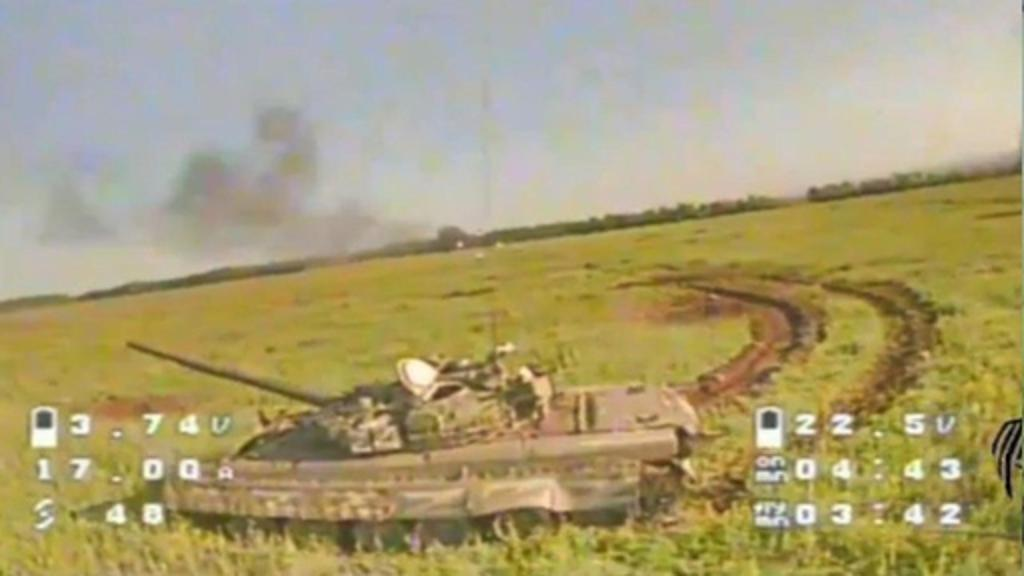TANK: (118, 332, 710, 538)
